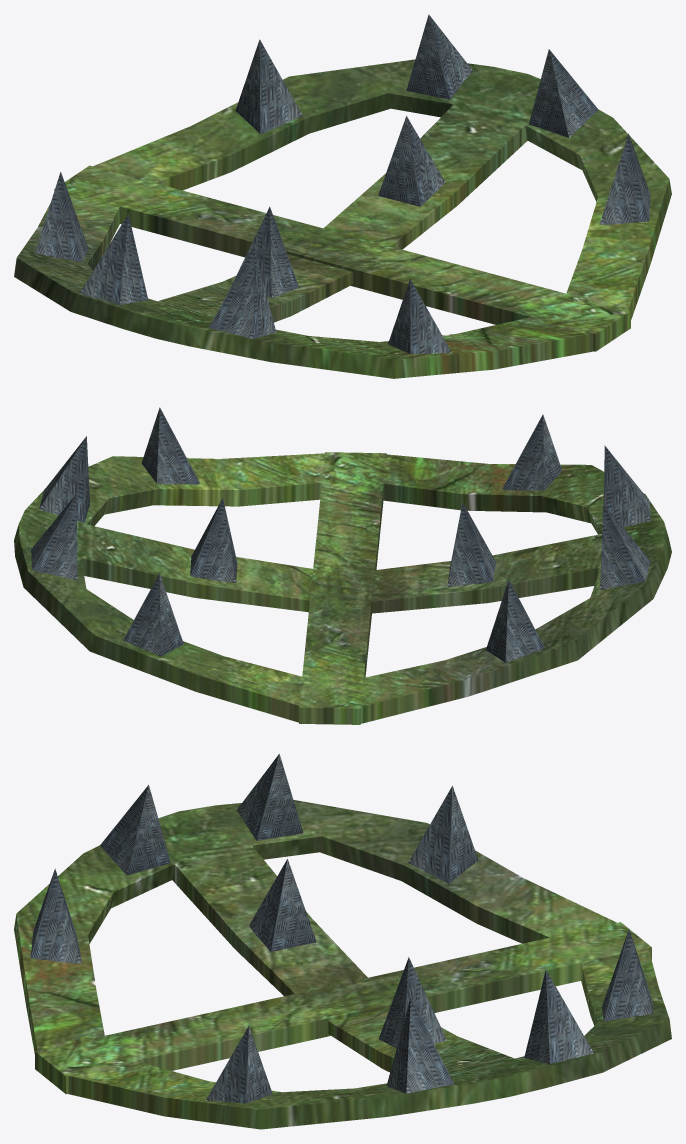
File: 绿夹子.FBX
3 views of the same model, one above another, from view 1: azimuth 30°, elevation 25°; view 2: azimuth 150°, elevation 25°; view 3: azimuth 270°, elevation 25° (orthographic). The views are drawn at different scales.
Visible parts, largest first — view 1: Tube003, Tube002, Box001, Hedra011, Hedra008, Hedra004, Hedra002, Hedra012, Hedra009, Hedra010, Hedra001, Hedra003 (+1 smaller); view 2: Tube003, Tube002, Box001, Hedra002, Hedra008, Hedra001, Hedra009, Hedra012, Hedra005, Hedra003, Hedra010, Hedra011 (+1 smaller); view 3: Tube002, Tube003, Box001, Hedra001, Hedra004, Hedra009, Hedra005, Hedra011, Hedra002, Hedra003, Hedra008, Hedra010 (+1 smaller).
Boxes of the visible parts, x1,y1,x2,y2 form: Tube003: (92,59,671,319); Tube002: (14,192,593,378); Box001: (54,165,630,351); Hedra011: (529,49,598,137); Hedra008: (235,39,302,134); Hedra004: (209,245,276,338); Hedra002: (79,214,148,304); Hedra012: (378,116,445,206); Hedra009: (406,14,472,99); Hedra010: (599,133,650,224); Hedra001: (35,172,88,262); Hedra003: (388,278,451,354); Tube003: (14,453,324,722); Tube002: (361,454,671,723); Box001: (299,452,386,724); Hedra002: (600,503,650,589); Hedra008: (123,573,183,656); Hedra001: (486,579,544,662); Hedra009: (31,494,77,580); Hedra012: (190,498,237,582); Hedra005: (447,502,495,586); Hedra003: (502,414,562,490); Hedra010: (141,407,199,484); Hedra011: (39,436,89,522); Tube002: (14,800,617,1053); Tube003: (68,948,671,1129); Box001: (35,922,651,1094); Hedra001: (408,786,478,883); Hedra004: (100,785,170,875); Hedra009: (524,970,593,1063); Hedra005: (249,859,316,951); Hedra011: (386,997,453,1093); Hedra002: (237,754,303,840); Hedra003: (30,868,81,963); Hedra008: (601,929,653,1021); Hedra010: (206,1026,272,1103).
Bounding box in the file's own units: 86.58 × 19.04 × 80.47.
